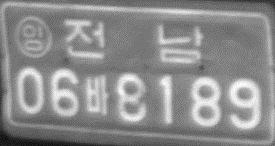0: (15, 64, 46, 115)
1: (151, 74, 184, 125)
6: (50, 67, 80, 119)
8: (189, 75, 222, 128), (115, 71, 147, 123)
9: (227, 78, 262, 130)
바: (84, 73, 110, 117)
영: (14, 14, 55, 61)
전남_D: (62, 17, 204, 64)
